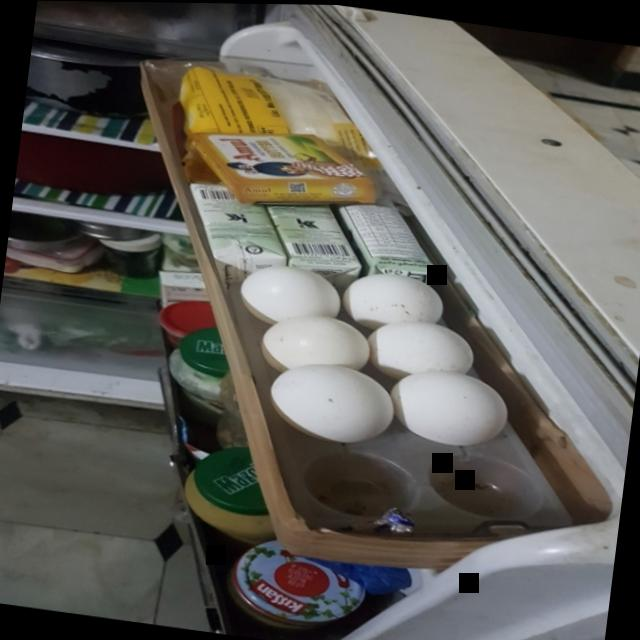butter: (183, 114, 386, 207)
eggs: (381, 356, 521, 458), (266, 349, 400, 448), (360, 305, 480, 384), (336, 261, 446, 342), (260, 304, 372, 375), (237, 258, 343, 326)
